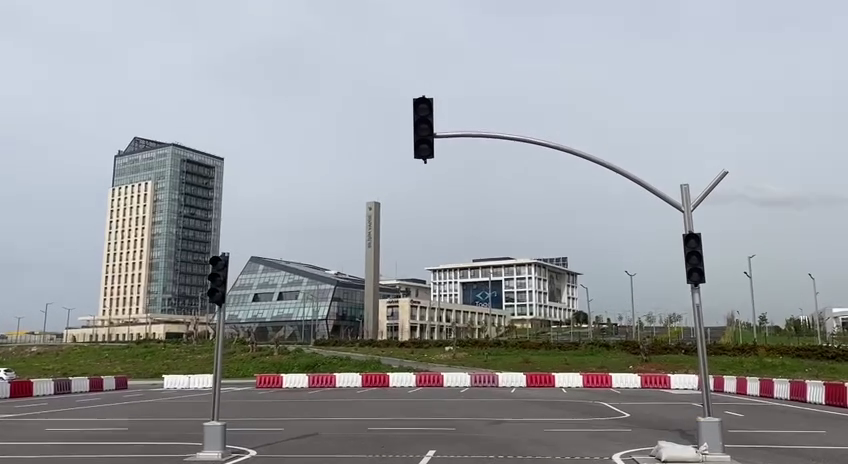trafficLight: (409, 91, 439, 168), (679, 229, 709, 287), (204, 250, 232, 308)
